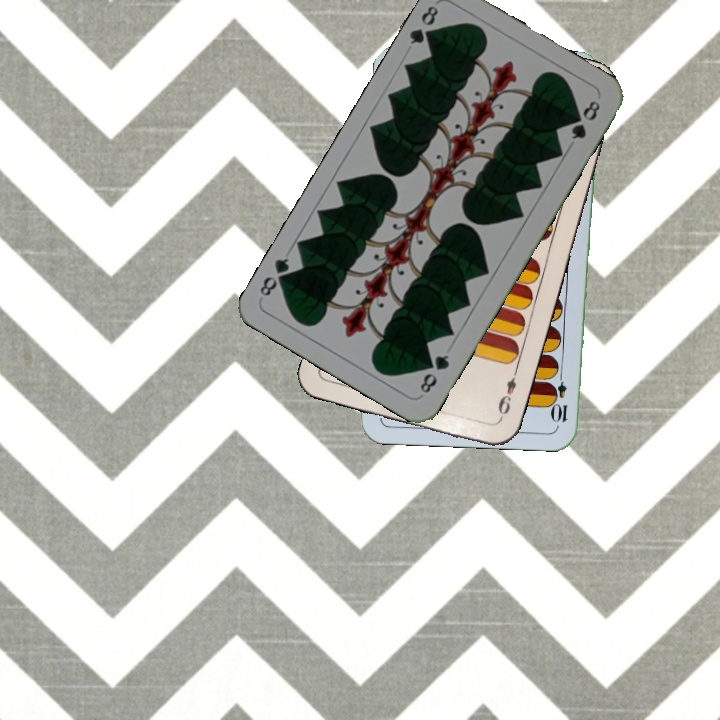E10: (551, 366, 570, 425)
E9: (493, 366, 520, 424)
G8: (415, 350, 452, 396), (405, 1, 441, 48)
